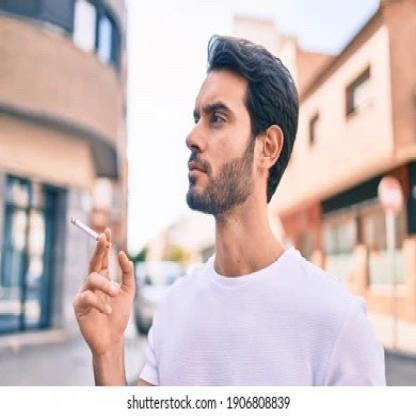cigarette: (68, 216, 100, 243)
person: (99, 34, 388, 385)
